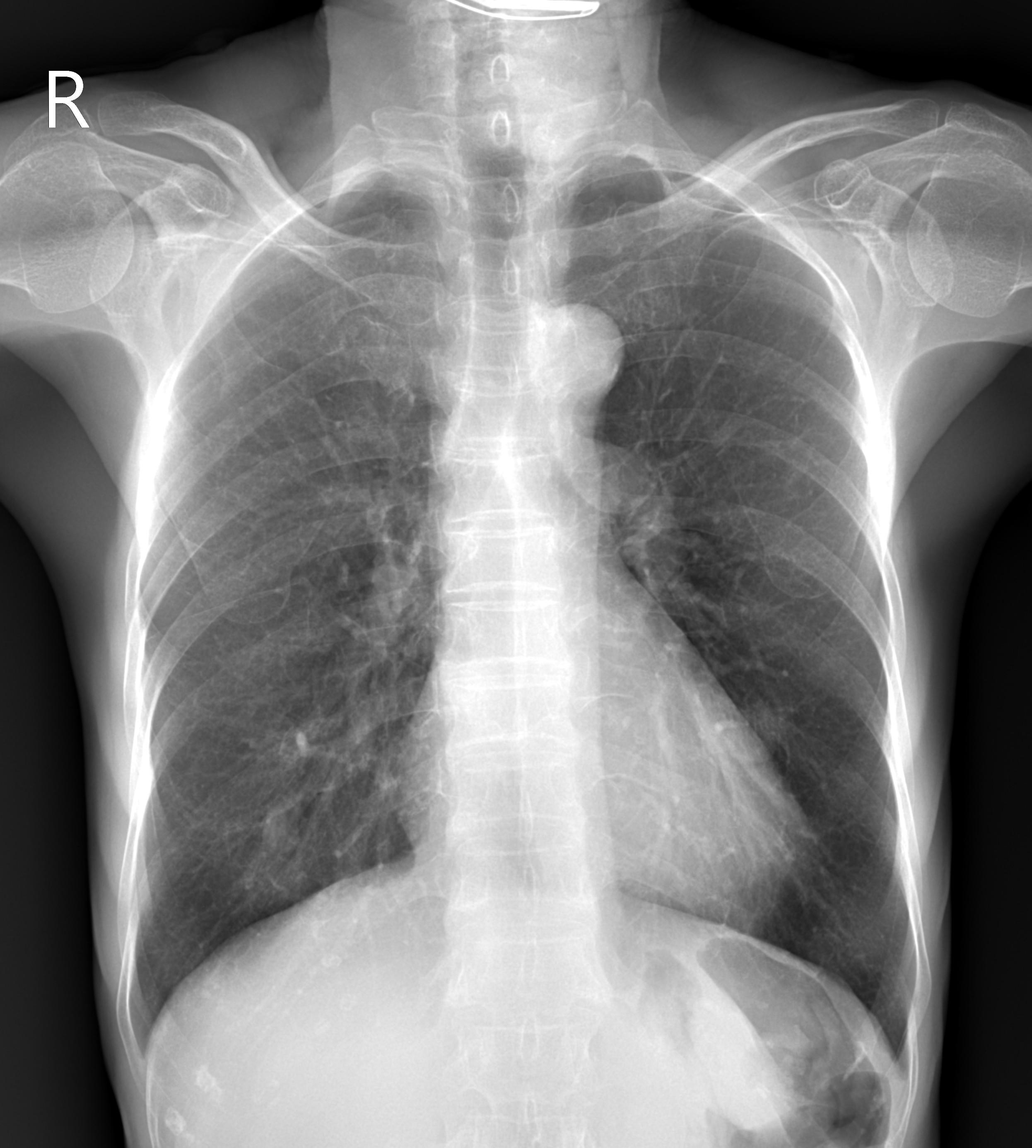Cardiomegaly: (383, 729, 810, 938)
Pleural thickening: (349, 164, 421, 191)
